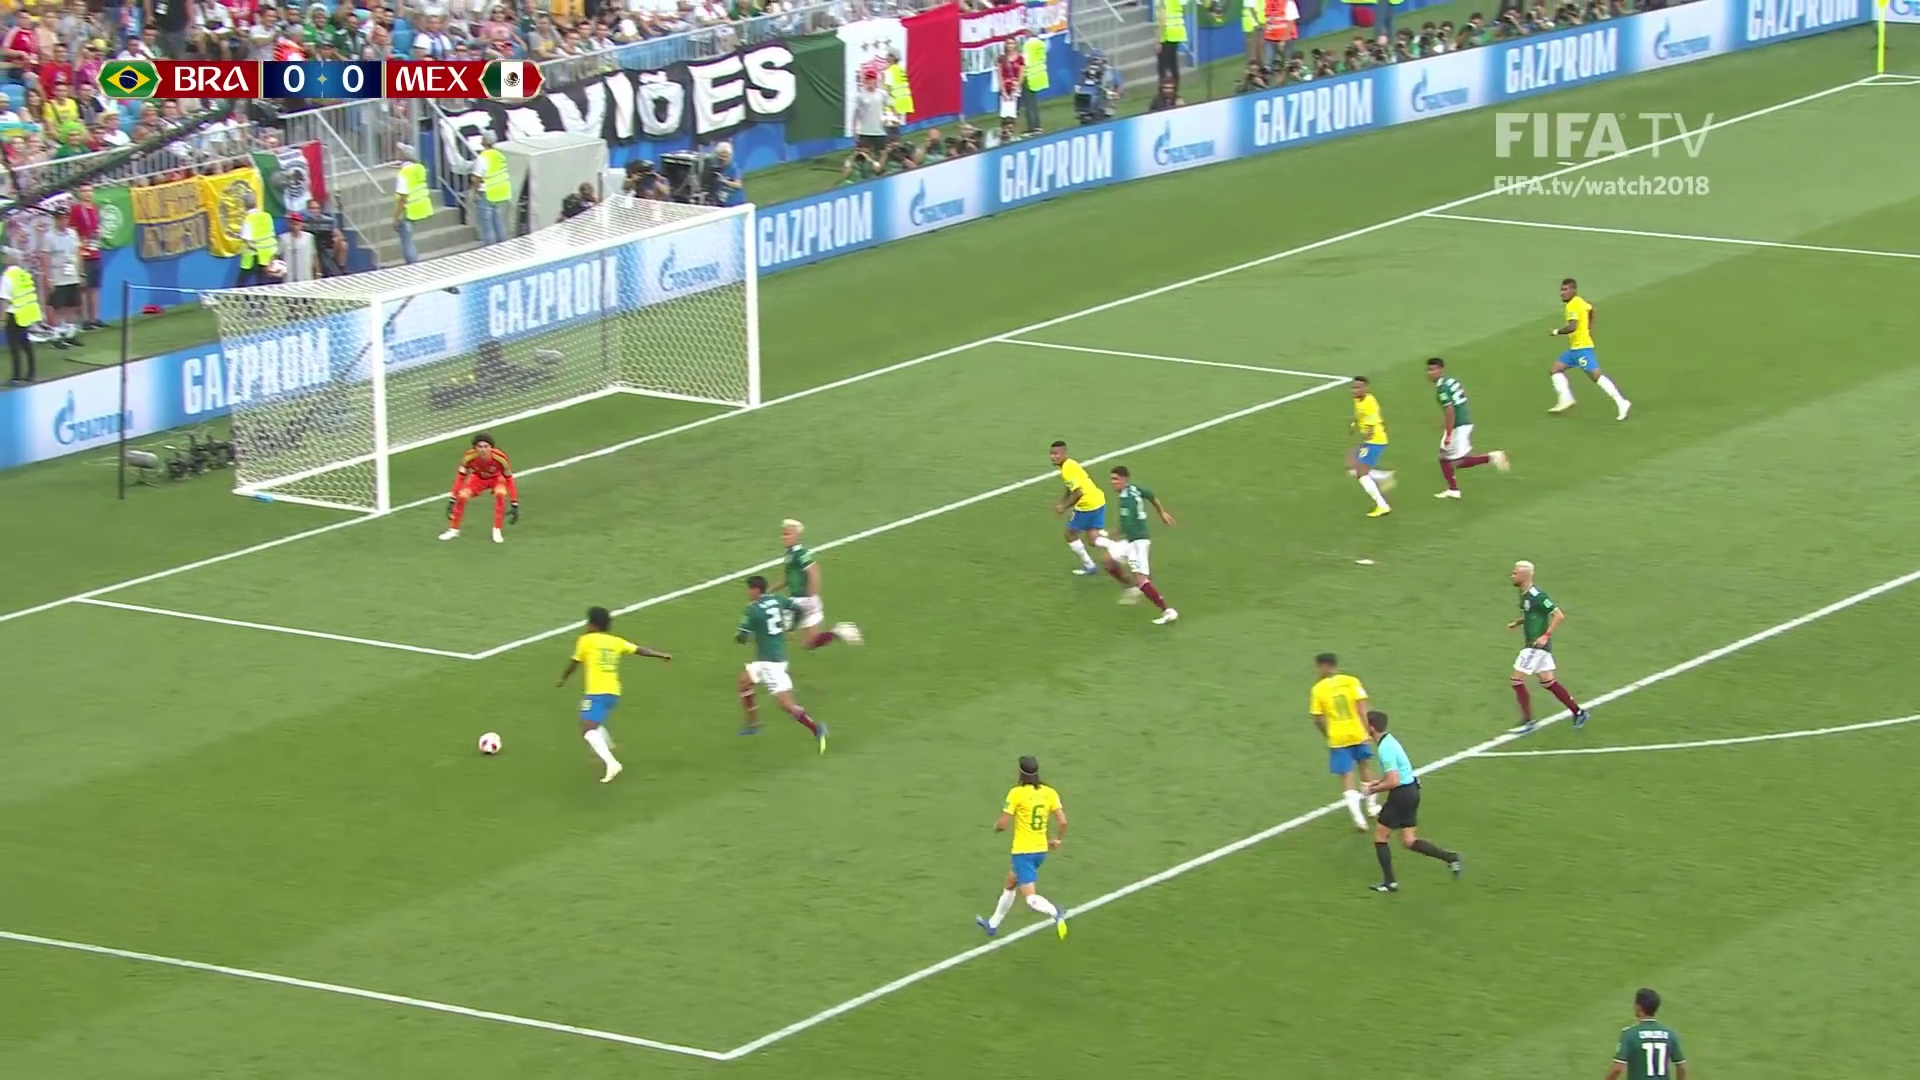ball: (475, 732, 501, 753)
person: (558, 607, 669, 781), (728, 577, 825, 750), (980, 755, 1069, 941), (1507, 561, 1585, 730), (1310, 654, 1379, 827), (773, 519, 865, 648), (1106, 466, 1178, 627), (1551, 277, 1630, 420), (1425, 359, 1505, 498), (433, 434, 519, 542), (1051, 445, 1111, 577), (1607, 988, 1687, 1080), (1348, 377, 1394, 516)
